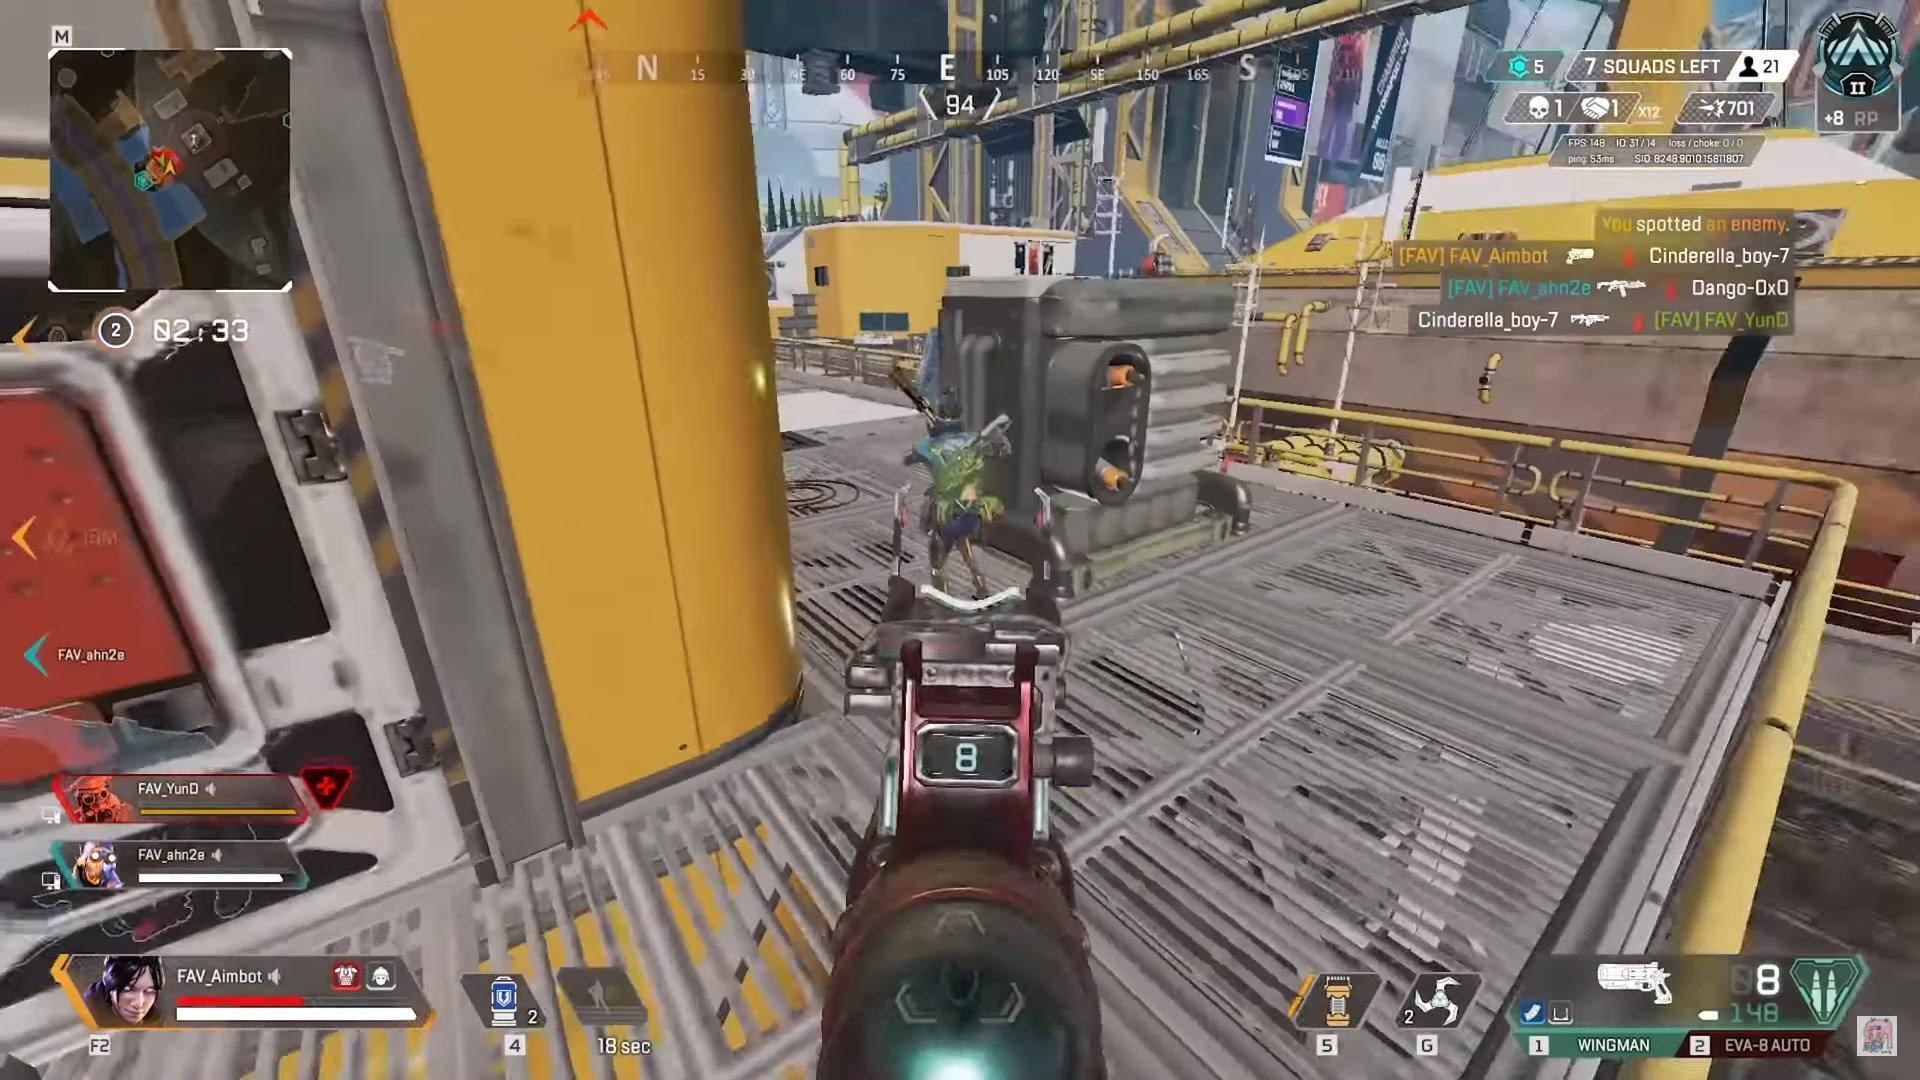avatar: (907, 389, 989, 598)
